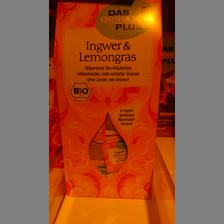Tee: (50, 1, 162, 200)
